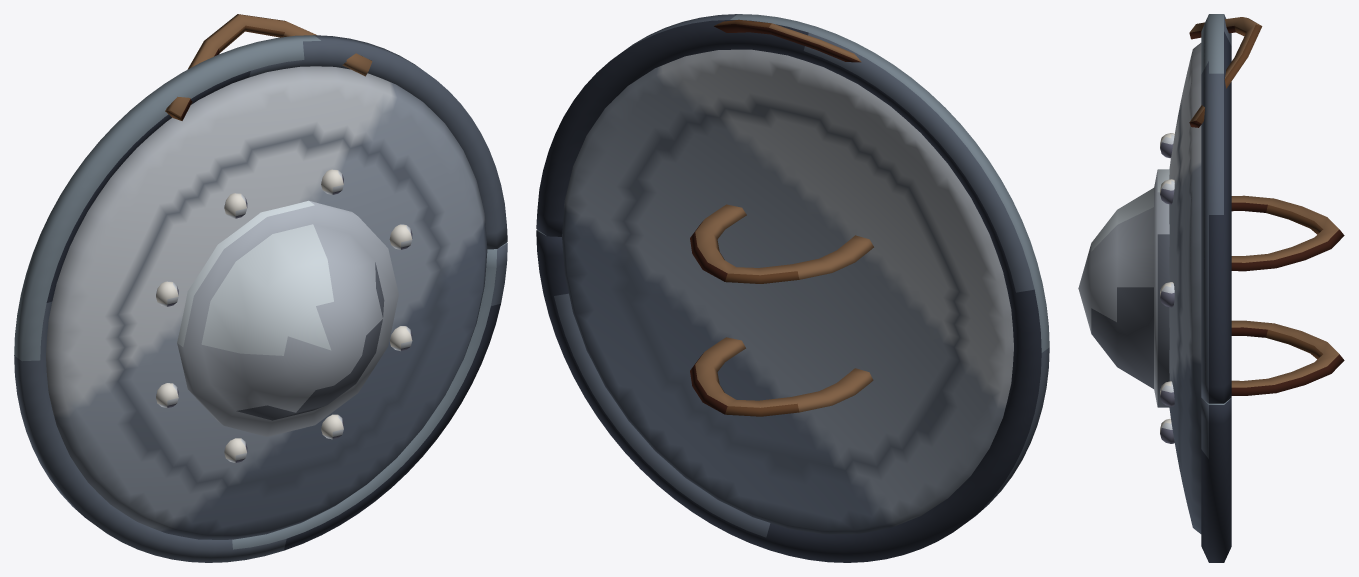
Rendered from sh_iron_buckler.glb.
3 views of the same model, side by side, from view 1: azimuth 30°, elevation 25°; view 2: azimuth 150°, elevation 25°; view 3: azimuth 270°, elevation 25° (orthographic). The views are drawn at different scales.
Parts seen in each view (by area): view 1: Weapon; view 2: Weapon; view 3: Weapon.
Boxes of the visible parts, x1,y1,x2,y2 form: Weapon: (14, 14, 507, 562); Weapon: (536, 14, 1049, 562); Weapon: (1078, 14, 1344, 562).
Bounding box in the file's own units: 0.319 × 0.3287 × 0.1546.
